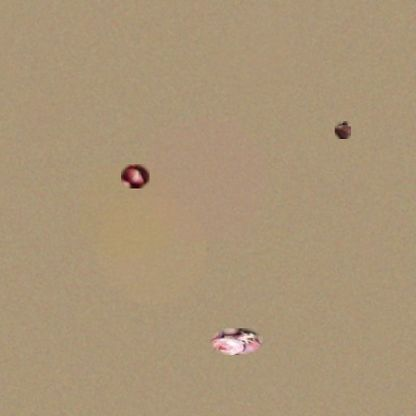healthy: (121, 164, 149, 188)
sprouted: (210, 328, 262, 355), (335, 121, 351, 139)
